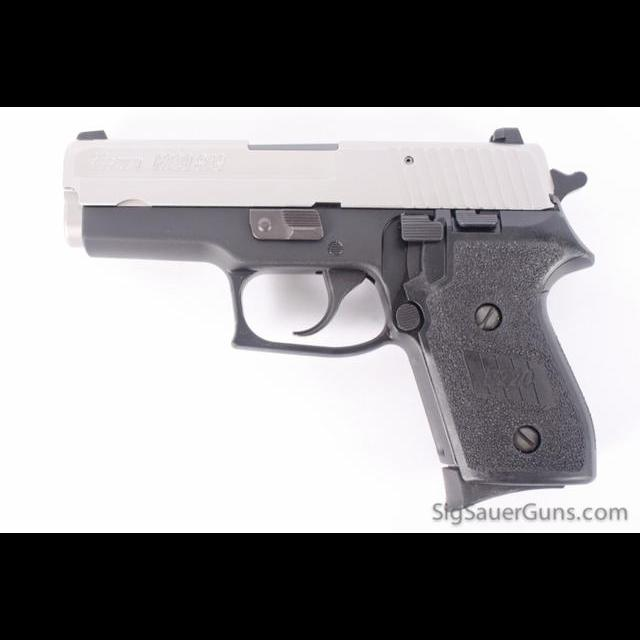handgun: (62, 124, 600, 516)
